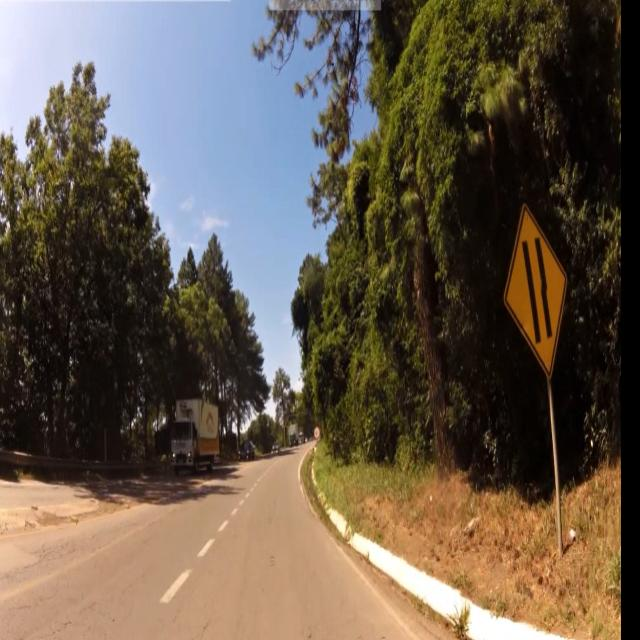A-21e: (498, 207, 580, 399)
